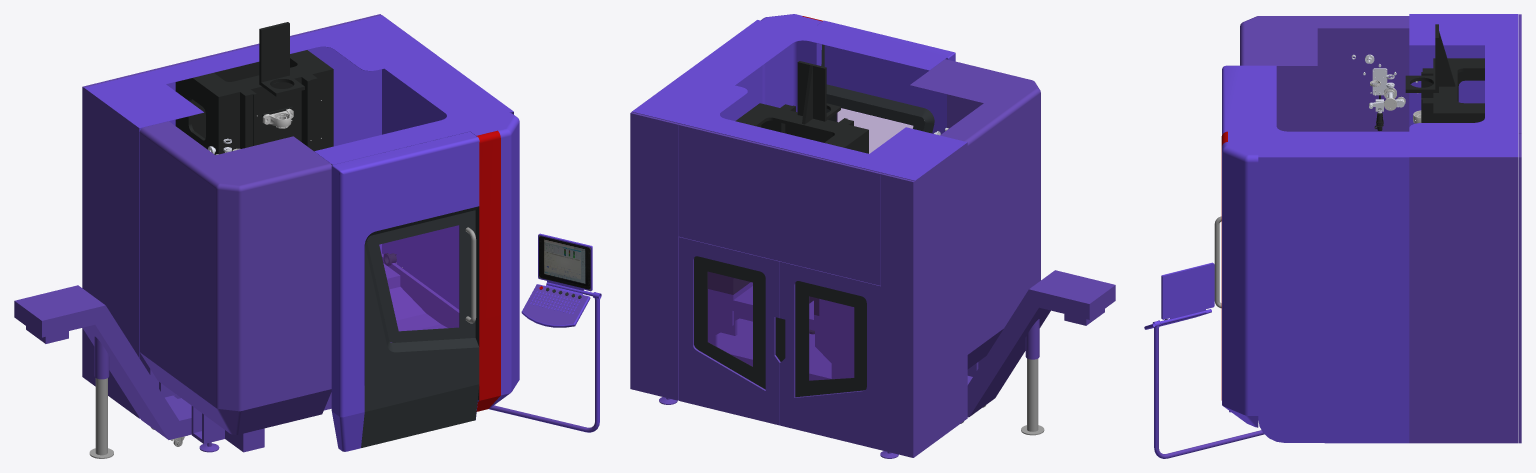
File: machine-maintenence.glb
3 renders of one model, left to right at view 1: azimuth 30°, elevation 25°; view 2: azimuth 150°, elevation 25°; view 3: azimuth 270°, elevation 25°, orthographic. The views are drawn at different scales.
Visible parts, largest first — view 1: CNC_Machine_with_Doors_mesh76_192, CNC_Machine_with_Doors_mesh106_184, CNC_Machine_with_Doors_mesh72_176, CNC_Machine_with_Doors_mesh103_232, CNC_Machine_with_Doors_mesh179_180, CNC_Machine_with_Doors_mesh83_202, CNC_Machine_with_Doors_mesh78_196, CNC_Machine_with_Doors_mesh88_206, CNC_Machine_with_Doors_mesh135_336, CNC_Machine_with_Doors_mesh77_198, CNC_Machine_with_Doors_mesh110_178, CNC_Machine_with_Doors_mesh100_230 (+2 smaller); view 2: CNC_Machine_with_Doors_mesh132_272, CNC_Machine_with_Doors_mesh106_184, CNC_Machine_with_Doors_mesh76_192, CNC_Machine_with_Doors_mesh101_194, CNC_Machine_with_Doors_mesh85_204, CNC_Machine_with_Doors_mesh179_180, CNC_Machine_with_Doors_mesh103_232, CNC_Machine_with_Doors_mesh100_230, CNC_Machine_with_Doors_mesh72_176, CNC_Machine_with_Doors_mesh77_198, CNC_Machine_with_Doors_mesh78_196, CNC_Machine_with_Doors_mesh110_178 (+1 smaller); view 3: CNC_Machine_with_Doors_mesh106_184, CNC_Machine_with_Doors_mesh74_188, CNC_Machine_with_Doors_mesh76_192, CNC_Machine_with_Doors_mesh88_206, CNC_Machine_with_Doors_mesh103_232, CNC_Machine_with_Doors_mesh101_194, CNC_Machine_with_Doors_mesh72_176, CNC_Machine_with_Doors_mesh110_178, CNC_Machine_with_Doors_mesh132_272.
Part boxes in pixels (bbox=[...]): CNC_Machine_with_Doors_mesh76_192: bbox=[139, 121, 331, 434]; CNC_Machine_with_Doors_mesh106_184: bbox=[84, 15, 519, 418]; CNC_Machine_with_Doors_mesh72_176: bbox=[331, 131, 479, 451]; CNC_Machine_with_Doors_mesh103_232: bbox=[175, 22, 333, 165]; CNC_Machine_with_Doors_mesh179_180: bbox=[14, 285, 191, 439]; CNC_Machine_with_Doors_mesh83_202: bbox=[364, 244, 479, 411]; CNC_Machine_with_Doors_mesh78_196: bbox=[379, 225, 458, 330]; CNC_Machine_with_Doors_mesh88_206: bbox=[489, 233, 601, 432]; CNC_Machine_with_Doors_mesh135_336: bbox=[477, 130, 500, 400]; CNC_Machine_with_Doors_mesh77_198: bbox=[353, 192, 479, 449]; CNC_Machine_with_Doors_mesh110_178: bbox=[367, 210, 476, 342]; CNC_Machine_with_Doors_mesh100_230: bbox=[139, 253, 459, 452]; CNC_Machine_with_Doors_mesh132_272: bbox=[678, 124, 881, 449]; CNC_Machine_with_Doors_mesh106_184: bbox=[632, 14, 967, 456]; CNC_Machine_with_Doors_mesh76_192: bbox=[910, 59, 1040, 369]; CNC_Machine_with_Doors_mesh101_194: bbox=[630, 112, 678, 400]; CNC_Machine_with_Doors_mesh85_204: bbox=[881, 173, 914, 457]; CNC_Machine_with_Doors_mesh179_180: bbox=[967, 270, 1115, 417]; CNC_Machine_with_Doors_mesh103_232: bbox=[708, 61, 868, 315]; CNC_Machine_with_Doors_mesh100_230: bbox=[708, 282, 985, 380]; CNC_Machine_with_Doors_mesh72_176: bbox=[816, 20, 955, 133]; CNC_Machine_with_Doors_mesh77_198: bbox=[826, 71, 941, 134]; CNC_Machine_with_Doors_mesh78_196: bbox=[837, 108, 912, 153]; CNC_Machine_with_Doors_mesh110_178: bbox=[826, 94, 924, 131]; CNC_Machine_with_Doors_mesh106_184: bbox=[1222, 14, 1518, 443]; CNC_Machine_with_Doors_mesh74_188: bbox=[1409, 157, 1518, 443]; CNC_Machine_with_Doors_mesh76_192: bbox=[1240, 16, 1409, 131]; CNC_Machine_with_Doors_mesh88_206: bbox=[1144, 262, 1264, 458]; CNC_Machine_with_Doors_mesh103_232: bbox=[1405, 24, 1484, 122]; CNC_Machine_with_Doors_mesh101_194: bbox=[1518, 133, 1521, 443]; CNC_Machine_with_Doors_mesh72_176: bbox=[1222, 65, 1239, 134]; CNC_Machine_with_Doors_mesh110_178: bbox=[1214, 216, 1221, 308]; CNC_Machine_with_Doors_mesh132_272: bbox=[1518, 30, 1521, 133].
Bounding box in the file's own units: 4.33 × 3.21 × 3.12.
Materials: 12 (1 with a texture image).
